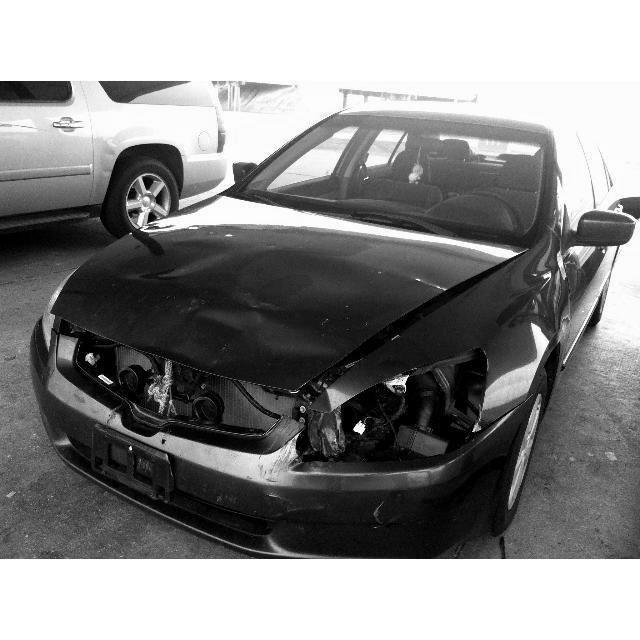Headlight-damage: (284, 354, 510, 479)
bonnet-dent: (63, 222, 417, 396)
front-bumper-dent: (140, 432, 496, 558)
